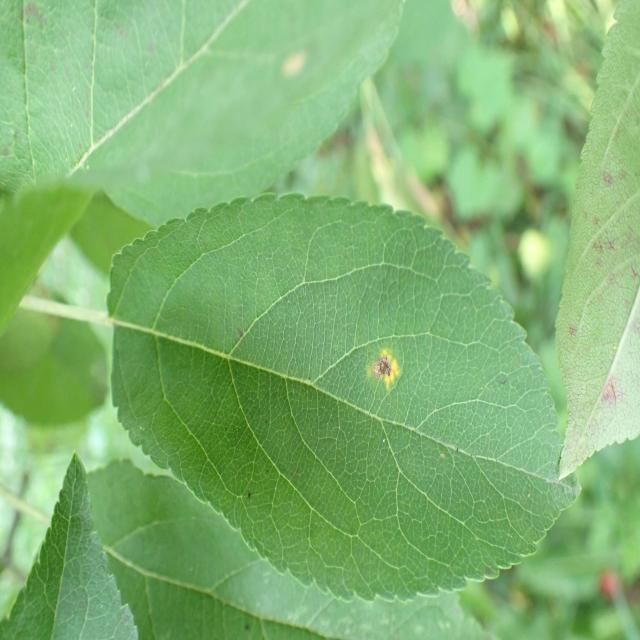Rust: (359, 338, 418, 400)
